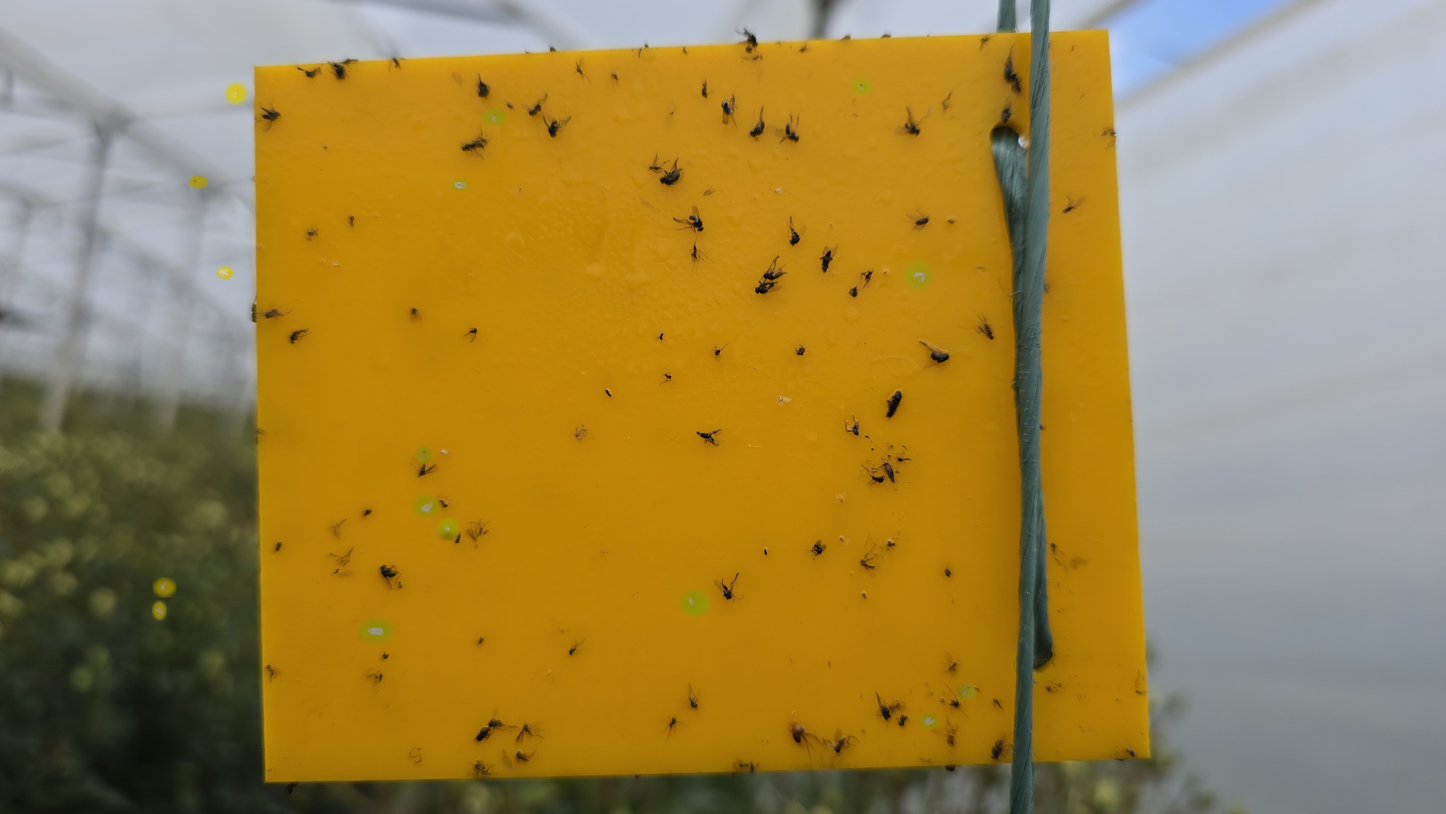WF: (362, 621, 389, 640), (907, 264, 929, 287), (683, 593, 706, 613), (415, 498, 436, 515), (775, 395, 795, 410), (228, 85, 244, 101), (440, 521, 456, 537), (156, 580, 173, 594), (484, 111, 503, 123), (853, 80, 869, 93), (921, 715, 937, 727), (959, 686, 974, 697), (417, 448, 429, 460), (191, 177, 205, 187), (154, 603, 164, 617), (453, 180, 467, 189), (219, 267, 231, 277), (440, 448, 452, 457), (774, 187, 784, 197)
